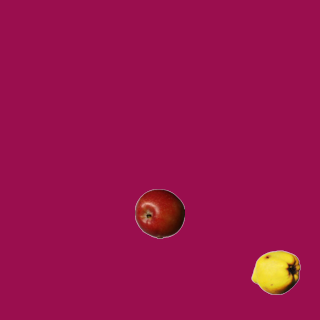Apple Braeburn: (134, 188, 184, 238)
Quince: (250, 247, 300, 297)
